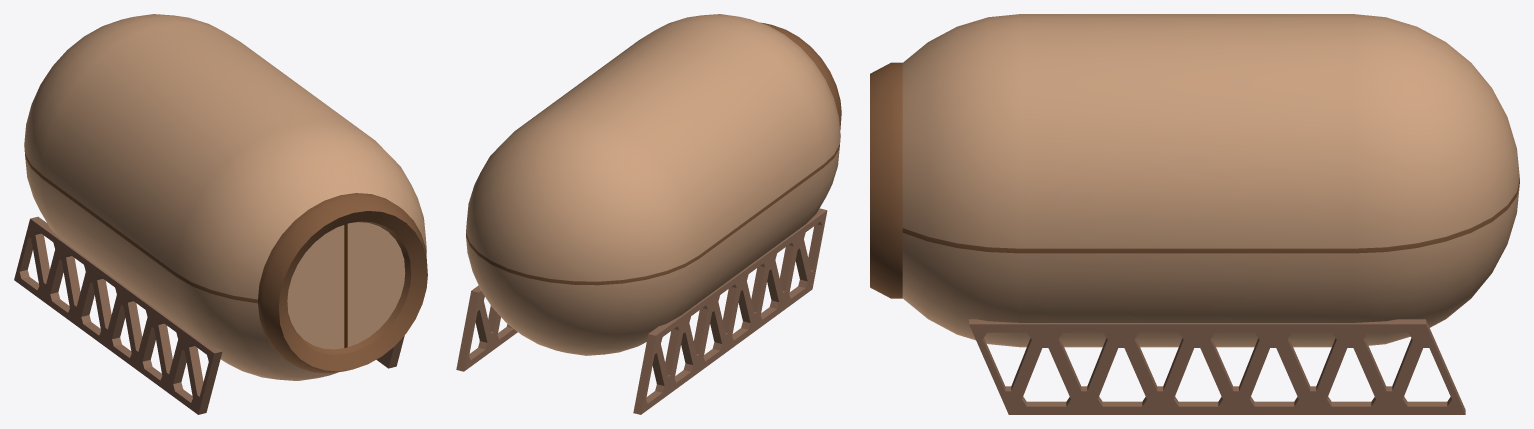
File: n_house_long.glb
3 views of the same model, side by side, from view 1: azimuth 30°, elevation 25°; view 2: azimuth 150°, elevation 25°; view 3: azimuth 270°, elevation 25° (orthographic). The views are drawn at different scales.
Visible parts, largest first — view 1: House_Long; view 2: House_Long; view 3: House_Long.
Part boxes in pixels (left/top/right/bottom): House_Long: left=14, top=14, right=427, bottom=414; House_Long: left=456, top=14, right=841, bottom=414; House_Long: left=870, top=14, right=1519, bottom=414.
Size of the model in its own units: 3.99 by 4.31 by 7.79.
1 material, 1 textured.
